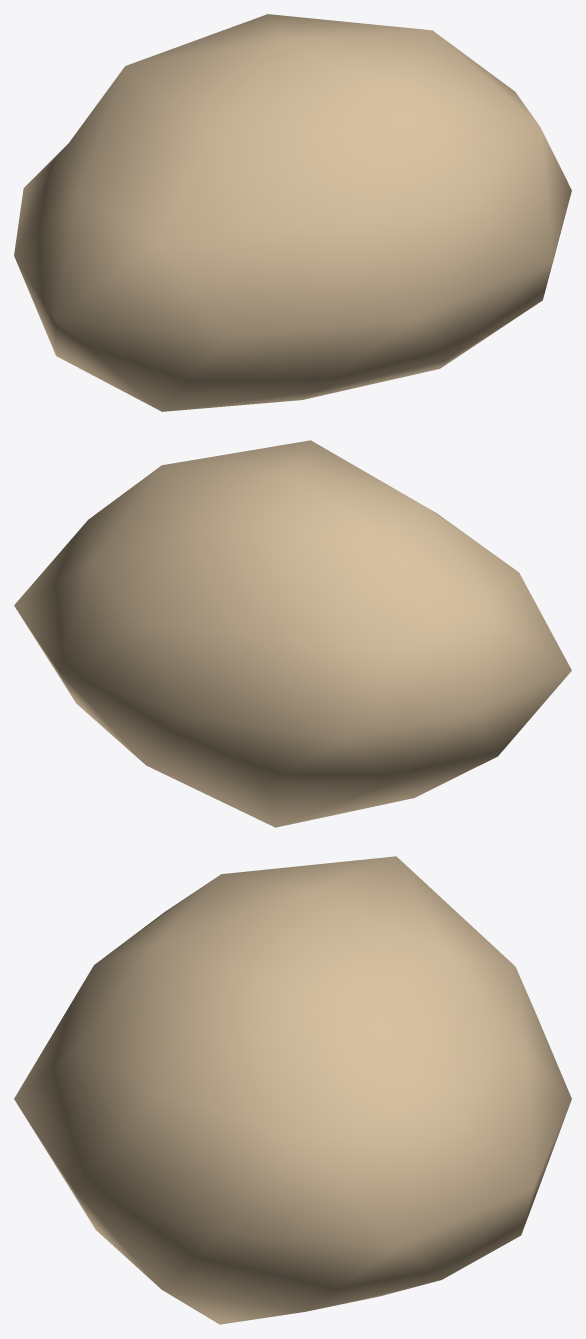
Rendered from RUBBEL_KIESEL_4.glb.
3 views of the same model, one above another, from view 1: azimuth 30°, elevation 25°; view 2: azimuth 150°, elevation 25°; view 3: azimuth 270°, elevation 25° (orthographic). The views are drawn at different scales.
Visible parts, largest first — view 1: RUBBEL_KIESEL_4; view 2: RUBBEL_KIESEL_4; view 3: RUBBEL_KIESEL_4.
Part boxes in pixels (<box>): RUBBEL_KIESEL_4: <box>14,14,571,411</box>; RUBBEL_KIESEL_4: <box>14,440,571,827</box>; RUBBEL_KIESEL_4: <box>14,856,571,1324</box>.
Bounding box in the file's own units: 0.6202 × 0.3892 × 0.4925.
